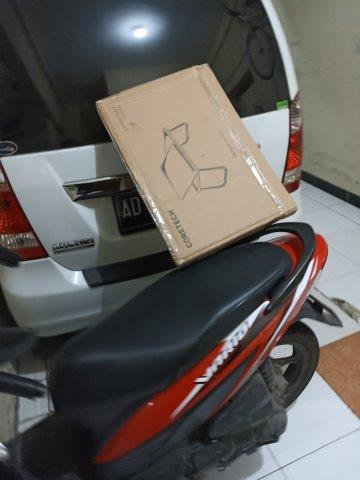kardus: (101, 66, 294, 263)
